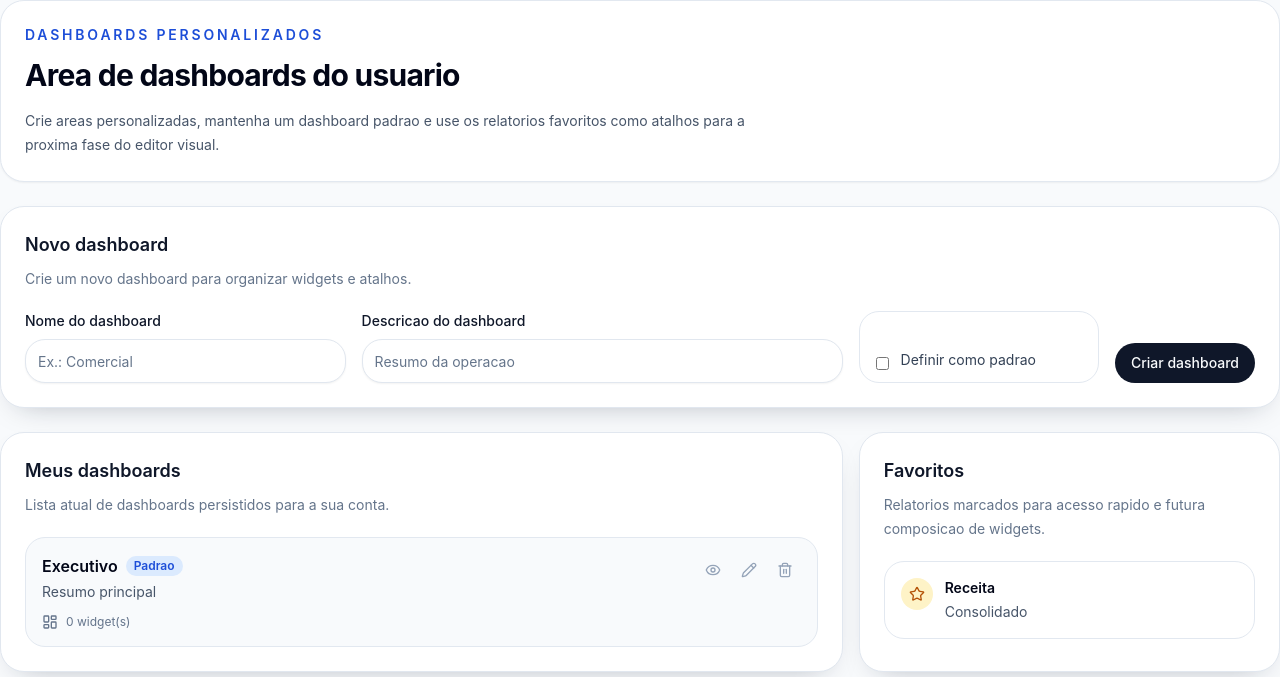
it: DashboardWorkspace › lista dashboards e cria um novo dashboard personalizado
Check: the text "Executivo" is shown, box [42,554,118,578]
Check: the text "Receita" is shown, box [945,579,995,596]
Type "Comercial" into the field labelled "Nome do dashboard". click: {"x": 185, "y": 361}
box: [25,339,346,383]
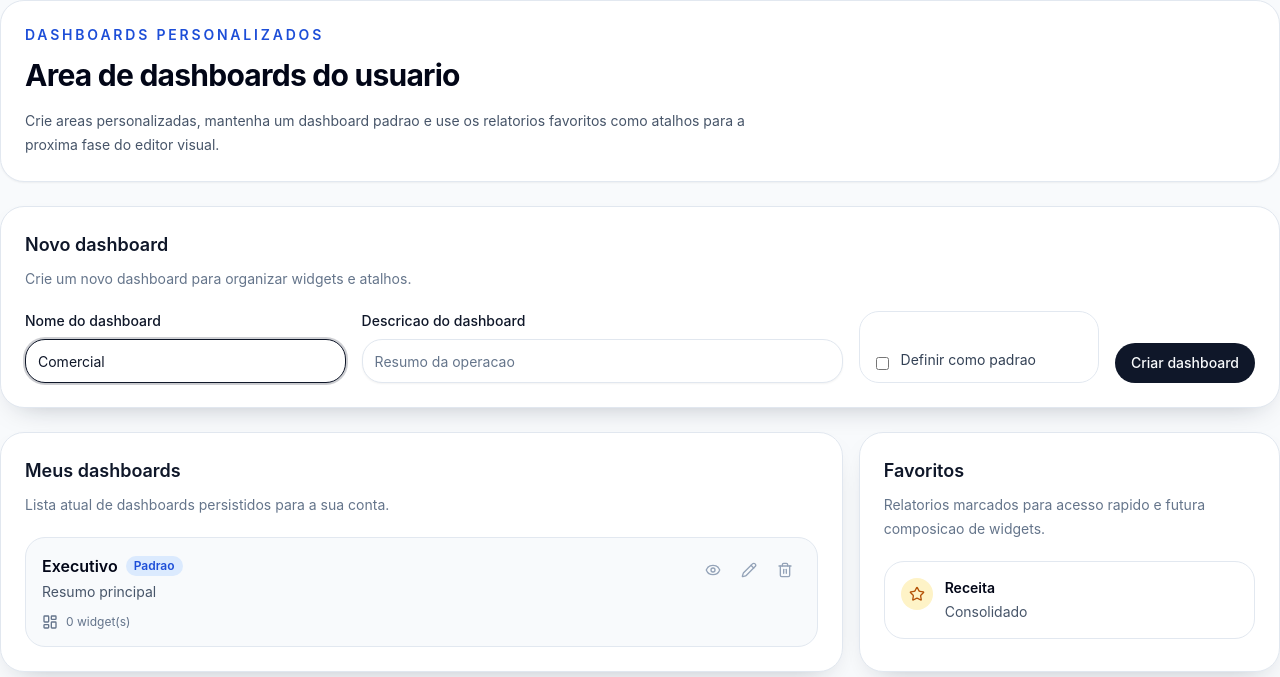
Type "Pipeline" into the field labelled "Descricao do dashboard". click: {"x": 602, "y": 361}
box: [362,339,842,383]
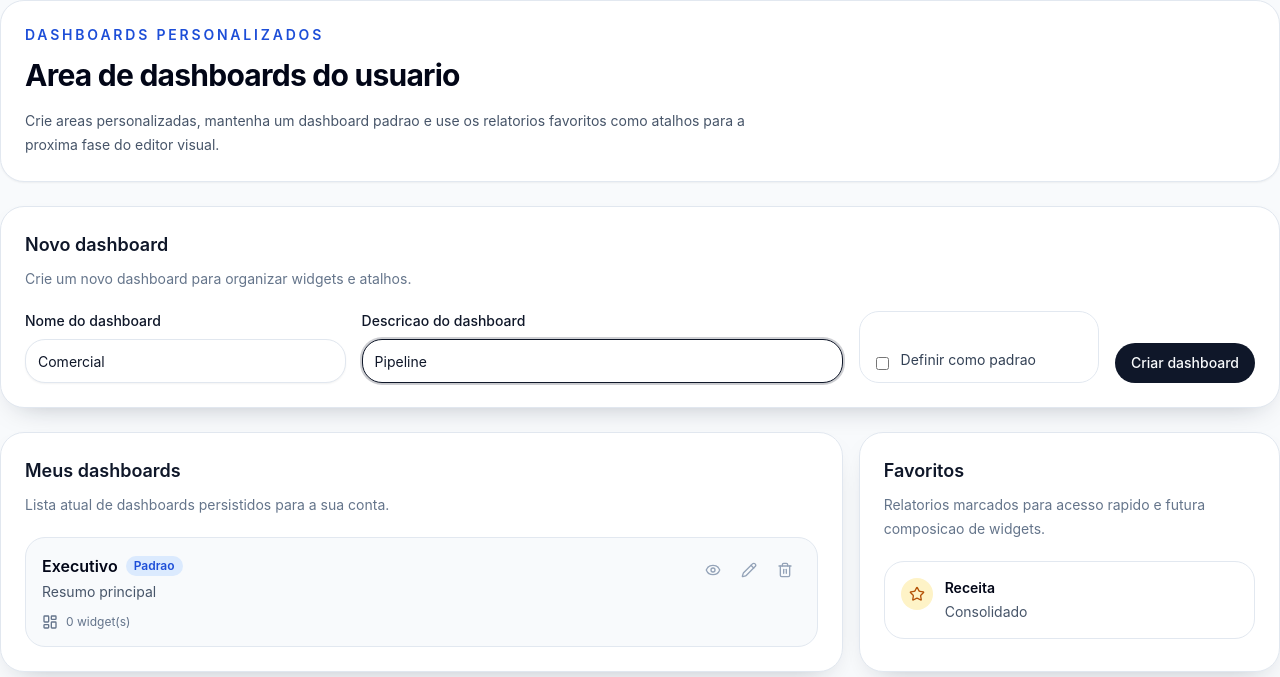
Click the button "Criar dashboard". click: {"x": 1185, "y": 363}
box: [1115,343,1255,383]
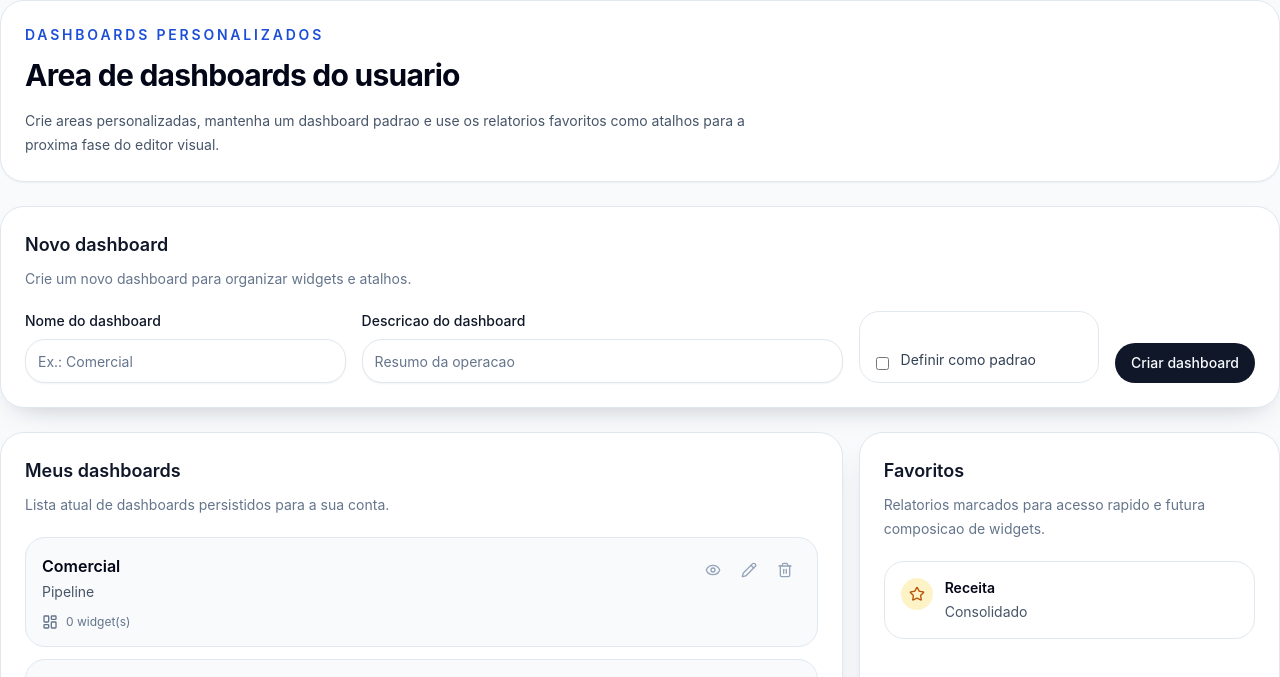
Check: the text "Comercial" is shown, box [42,554,120,578]
